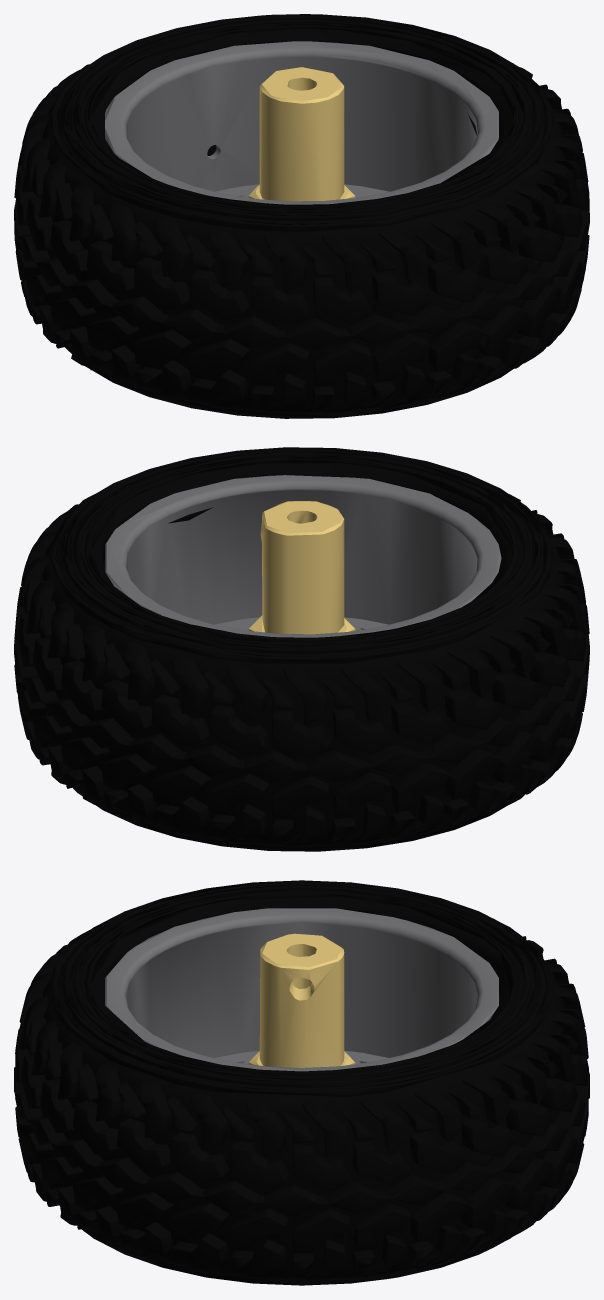
Rendered from wheel.dae.
The picture shows the model from 3 angles, top to bottom: view 1: azimuth 30°, elevation 25°; view 2: azimuth 150°, elevation 25°; view 3: azimuth 270°, elevation 25°; orthographic projection.
Parts seen in each view (by area): view 1: wheel_0000058682.001, wheel_0000058680.001, wheel_0000056616.001; view 2: wheel_0000058682.001, wheel_0000058680.001, wheel_0000056616.001; view 3: wheel_0000058682.001, wheel_0000058680.001, wheel_0000056616.001.
Part boxes in pixels (<box>): wheel_0000058682.001: <box>14,14,589,418</box>; wheel_0000058680.001: <box>105,41,498,204</box>; wheel_0000056616.001: <box>248,67,355,201</box>; wheel_0000058682.001: <box>14,447,589,851</box>; wheel_0000058680.001: <box>105,475,501,637</box>; wheel_0000056616.001: <box>248,501,355,634</box>; wheel_0000058682.001: <box>14,880,589,1285</box>; wheel_0000058680.001: <box>105,908,498,1071</box>; wheel_0000056616.001: <box>248,933,355,1067</box>.
Bounding box in the file's own units: 0.0749 × 0.0749 × 0.0336.
